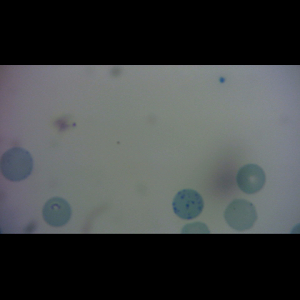aggregate reticulocyte: (171, 187, 205, 221)
erythrocyte: (234, 163, 267, 195)
punctate reticulocyte: (1, 145, 34, 183), (222, 198, 258, 232), (41, 196, 73, 228)
